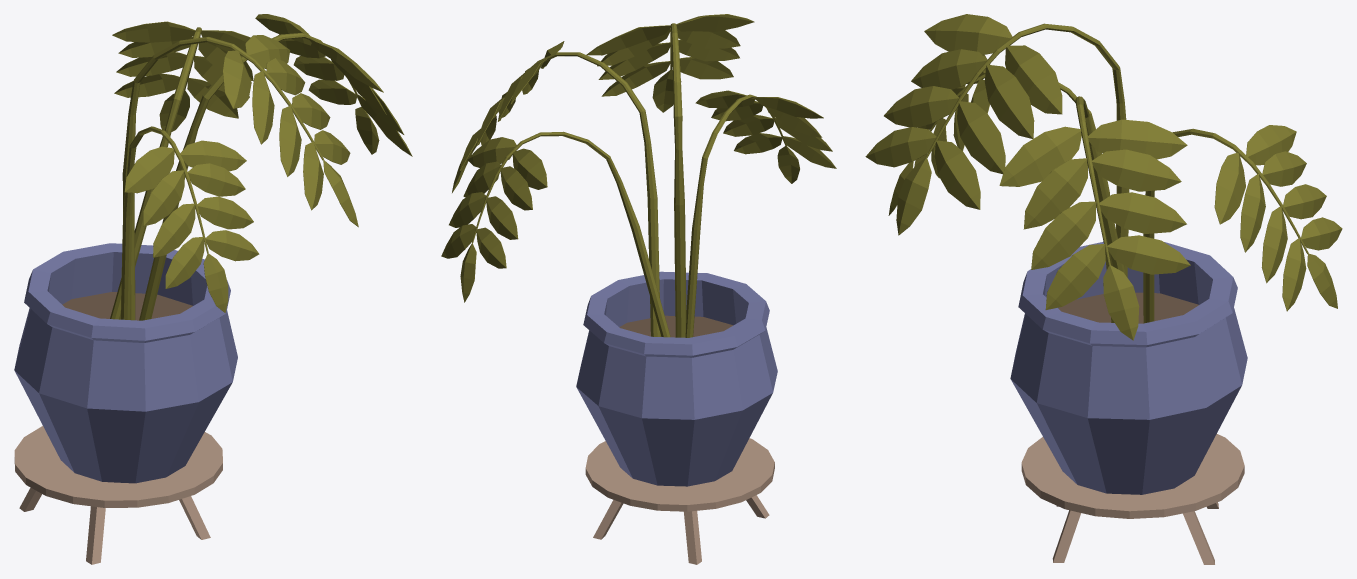
File: Flower_on_a_stand_2.fbx
3 views of the same model, side by side, from view 1: azimuth 30°, elevation 25°; view 2: azimuth 150°, elevation 25°; view 3: azimuth 270°, elevation 25° (orthographic). The views are drawn at different scales.
Visible parts, largest first — view 1: Flower_on_a_stand_2; view 2: Flower_on_a_stand_2; view 3: Flower_on_a_stand_2.
Boxes of the visible parts, left/top/right/bottom form: Flower_on_a_stand_2: left=14, top=14, right=412, bottom=564; Flower_on_a_stand_2: left=441, top=14, right=836, bottom=564; Flower_on_a_stand_2: left=865, top=14, right=1342, bottom=564.
Bounding box in the file's own units: 68.93 × 77.9 × 96.84.
